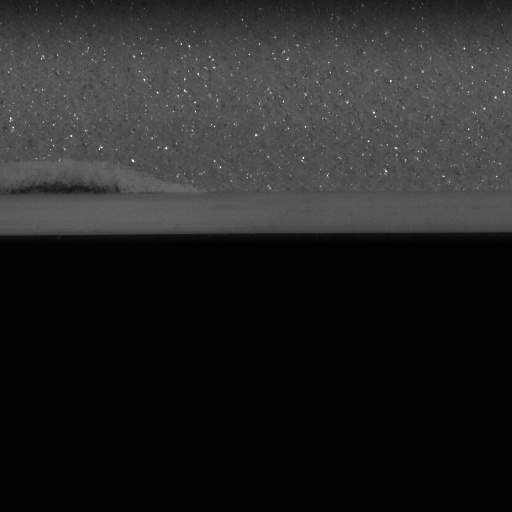bengque: (0, 180, 118, 196)
